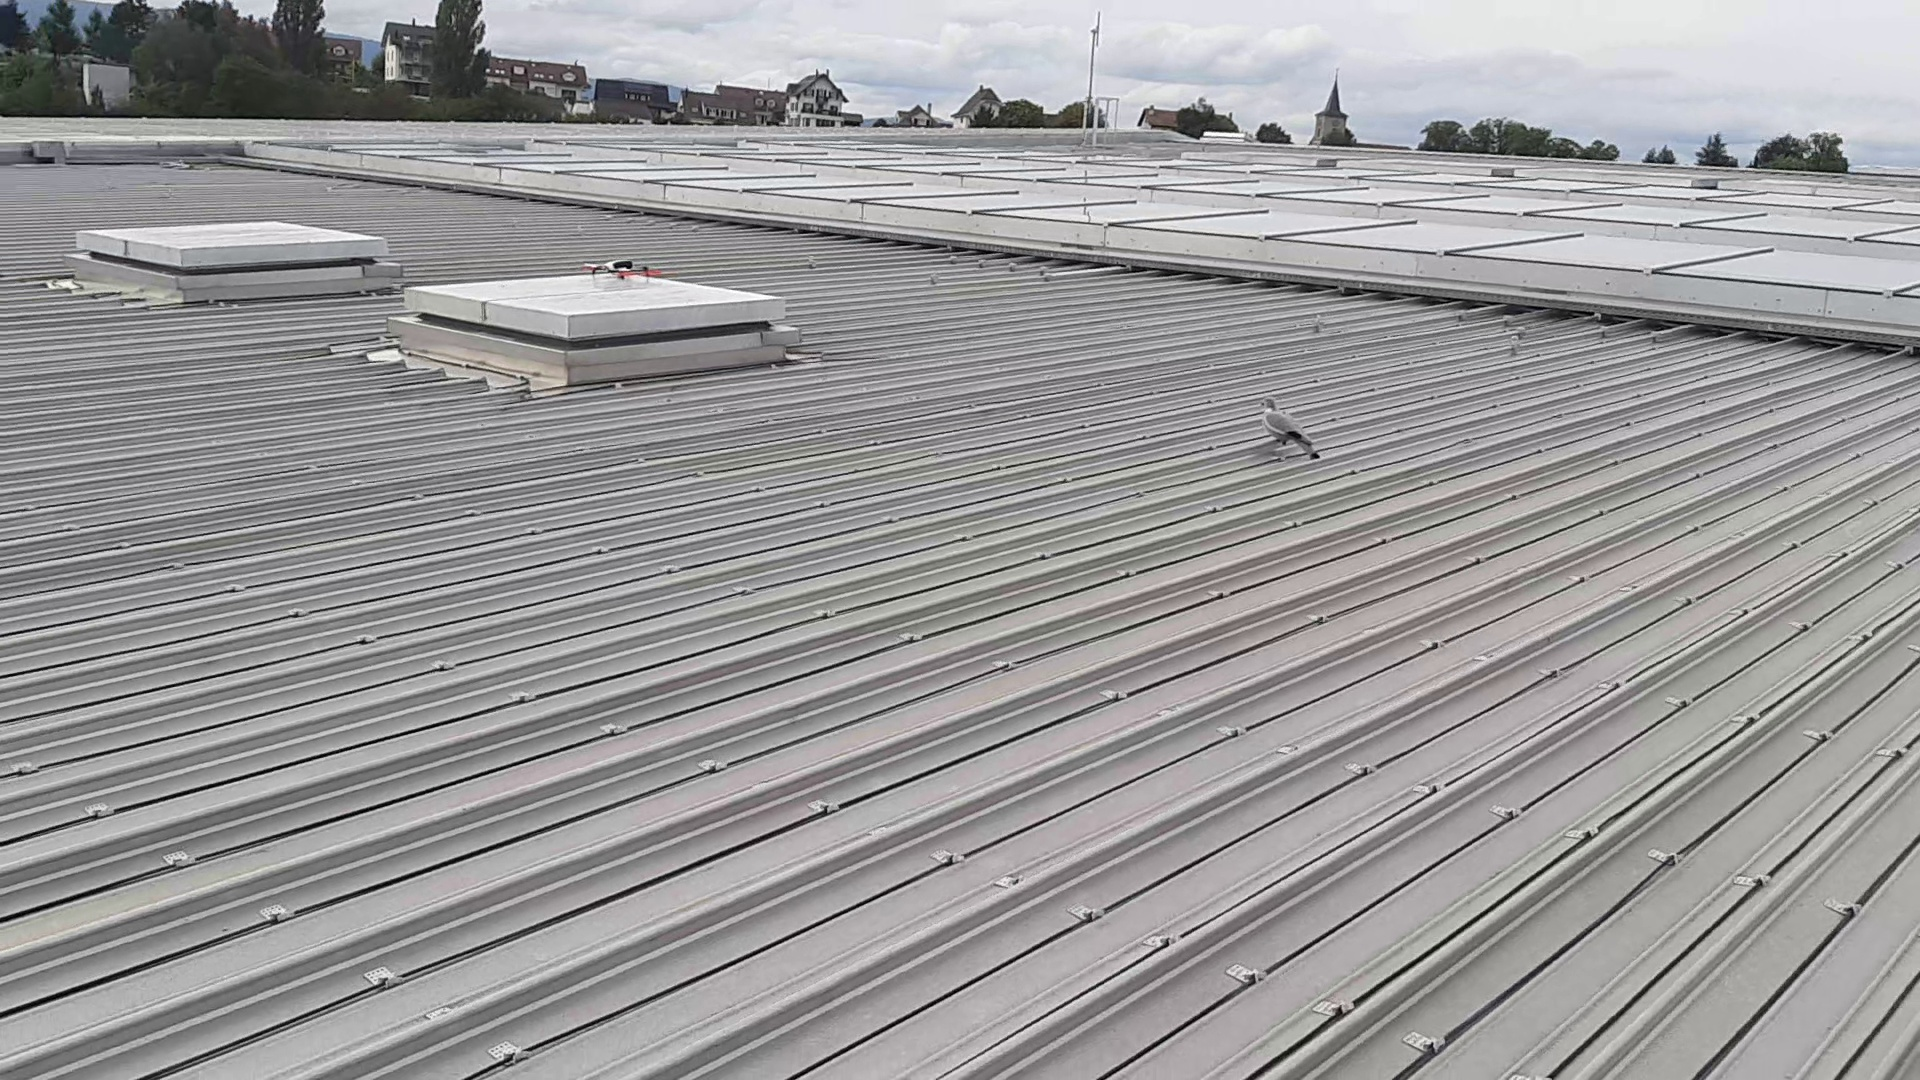Pigeon: (1249, 392, 1325, 465)
